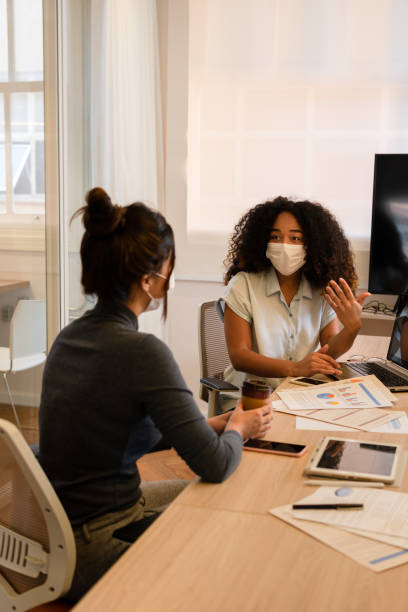with mask: (260, 206, 315, 274), (126, 247, 181, 315)
